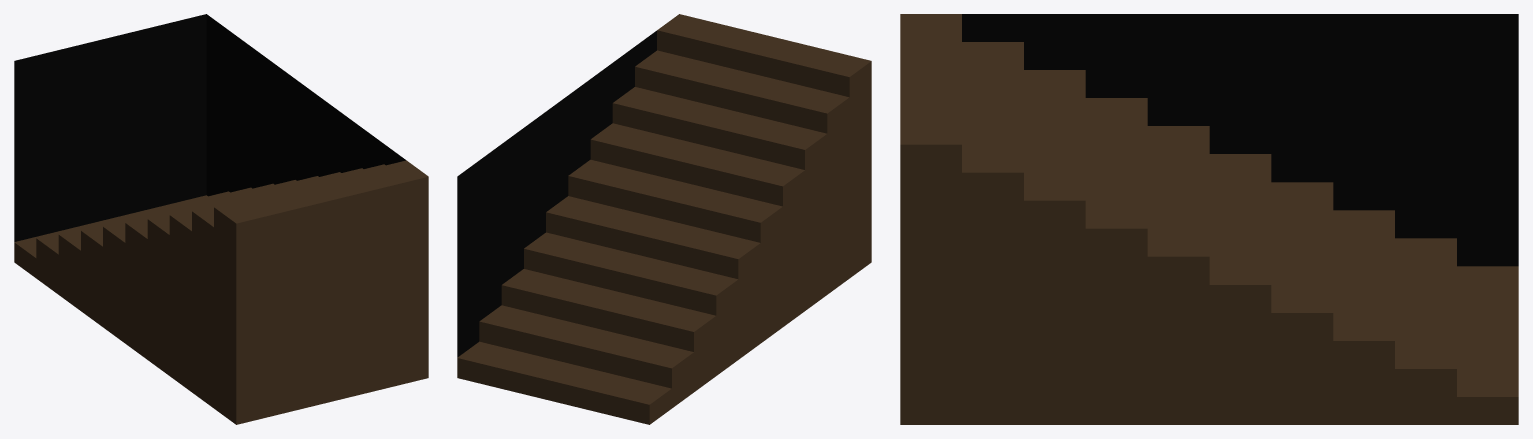
File: ConnectionDown.fbx
The picture shows the model from 3 angles, left to right: view 1: azimuth 30°, elevation 25°; view 2: azimuth 150°, elevation 25°; view 3: azimuth 270°, elevation 25°; orthographic projection. The views are drawn at different scales.
Parts seen in each view (by area): view 1: ConnectionDown; view 2: ConnectionDown; view 3: ConnectionDown.
Part boxes in pixels (x1,y1,x2,y2): ConnectionDown: [14, 14, 428, 424]; ConnectionDown: [457, 14, 871, 424]; ConnectionDown: [900, 14, 1518, 424].
Bounding box in the file's own units: 200 × 200 × 400.
